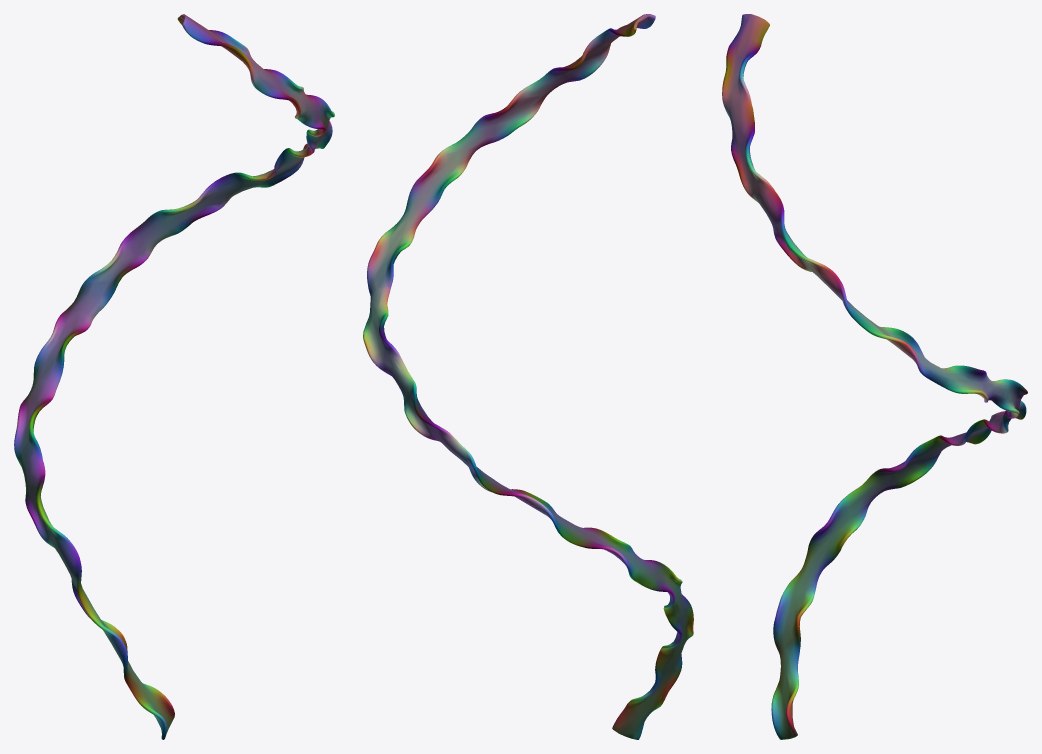
File: RibbonCurve01.fbx
3 views of the same model, side by side, from view 1: azimuth 30°, elevation 25°; view 2: azimuth 150°, elevation 25°; view 3: azimuth 270°, elevation 25° (orthographic). The views are drawn at different scales.
Visible parts, largest first — view 1: RibbonCurve01; view 2: RibbonCurve01; view 3: RibbonCurve01.
Boxes of the visible parts, x1,y1,x2,y2 form: RibbonCurve01: (14, 14, 334, 739); RibbonCurve01: (363, 14, 693, 739); RibbonCurve01: (722, 14, 1027, 739).
Bounding box in the file's own units: 2.15 × 5.13 × 1.95.
